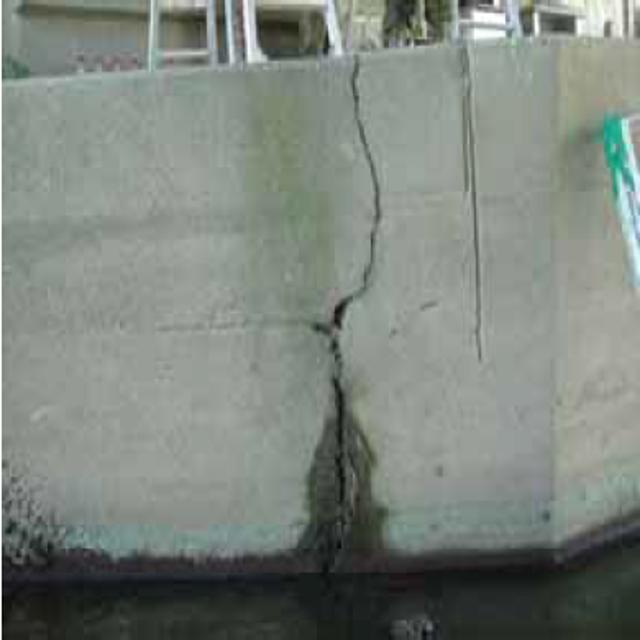crack: (304, 63, 387, 550)
